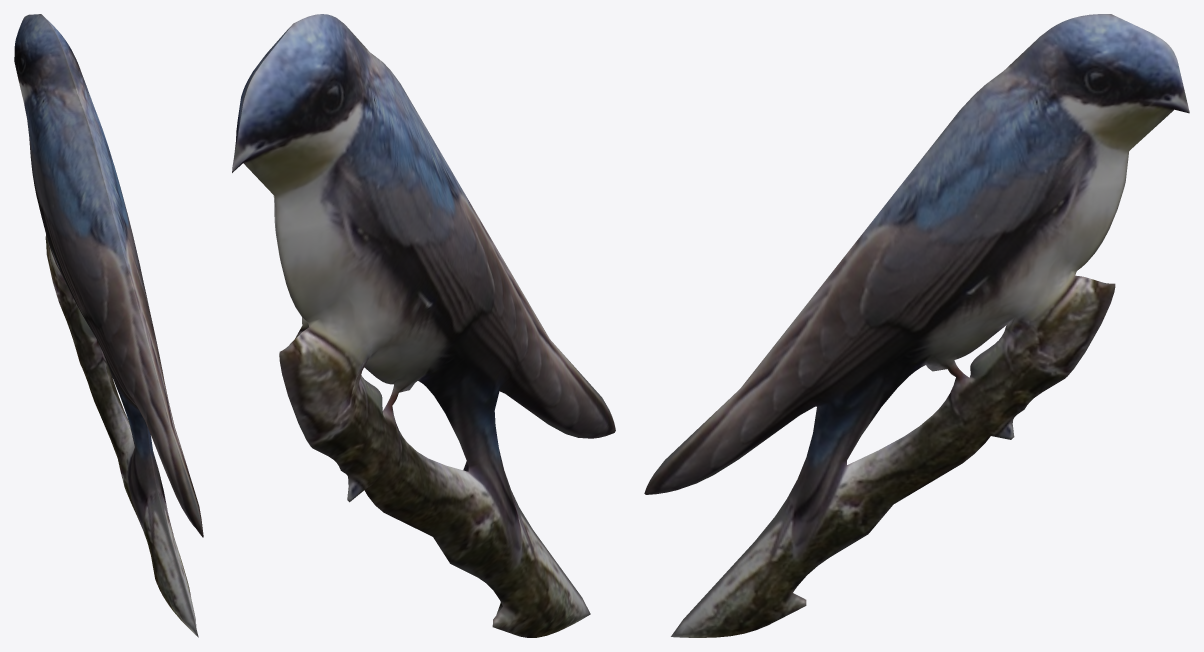
The picture shows the model from 3 angles, left to right: view 1: azimuth 30°, elevation 25°; view 2: azimuth 150°, elevation 25°; view 3: azimuth 270°, elevation 25°; orthographic projection. The views are drawn at different scales.
Visible parts, largest first — view 1: node1; view 2: node1; view 3: node1.
Boxes of the visible parts, x1,y1,x2,y2 form: node1: (14, 14, 203, 637); node1: (232, 14, 615, 637); node1: (644, 14, 1189, 637).
Bounding box in the file's own units: 0.2261 × 1.53 × 1.2.
Materials: 1 (1 with a texture image).
